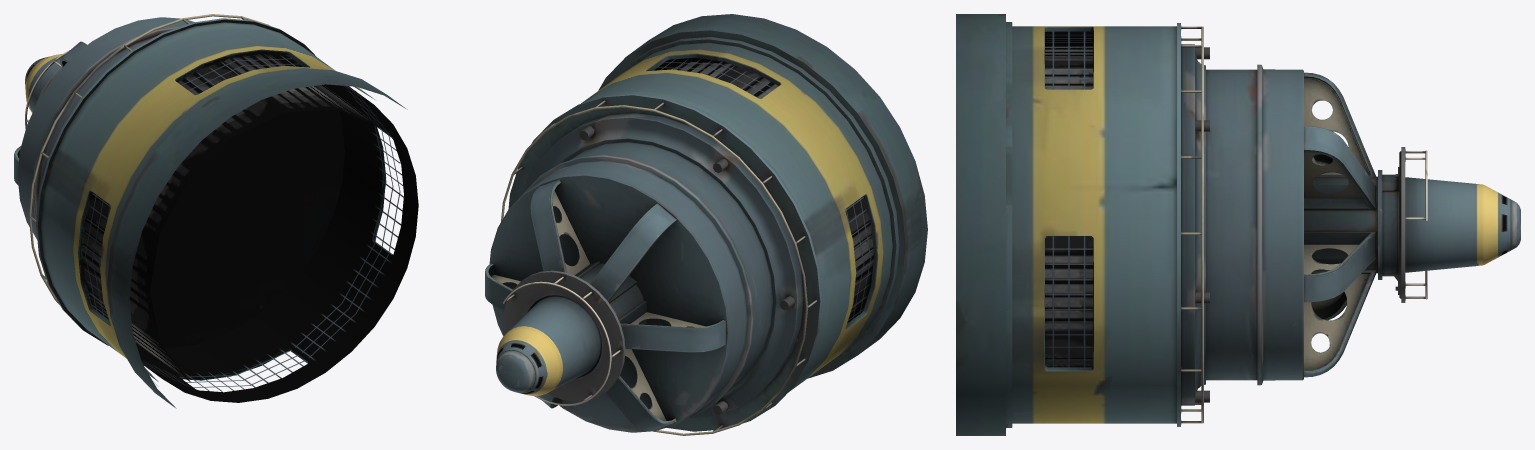
3 views of the same model, side by side, from view 1: azimuth 30°, elevation 25°; view 2: azimuth 150°, elevation 25°; view 3: azimuth 270°, elevation 25° (orthographic). The views are drawn at different scales.
Parts seen in each view (by area): view 1: body0_model0_lod0_mesh1, body0_model0_lod0_mesh0, body0_model0_lod0_mesh2; view 2: body0_model0_lod0_mesh0, body0_model0_lod0_mesh1, body0_model0_lod0_mesh2; view 3: body0_model0_lod0_mesh1, body0_model0_lod0_mesh0, body0_model0_lod0_mesh2.
Part boxes in pixels (x1=…): body0_model0_lod0_mesh1: x1=28, y1=14, x2=418, y2=408; body0_model0_lod0_mesh0: x1=14, y1=17, x2=194, y2=239; body0_model0_lod0_mesh2: x1=82, y1=54, x2=406, y2=392; body0_model0_lod0_mesh0: x1=485, y1=113, x2=803, y2=432; body0_model0_lod0_mesh1: x1=501, y1=14, x2=927, y2=435; body0_model0_lod0_mesh2: x1=657, y1=58, x2=873, y2=320; body0_model0_lod0_mesh1: x1=956, y1=14, x2=1203, y2=435; body0_model0_lod0_mesh0: x1=1181, y1=44, x2=1520, y2=405; body0_model0_lod0_mesh2: x1=1045, y1=31, x2=1093, y2=367.
Size of the model in its own units: 270 by 270 by 361.
3 materials, 3 textured.
